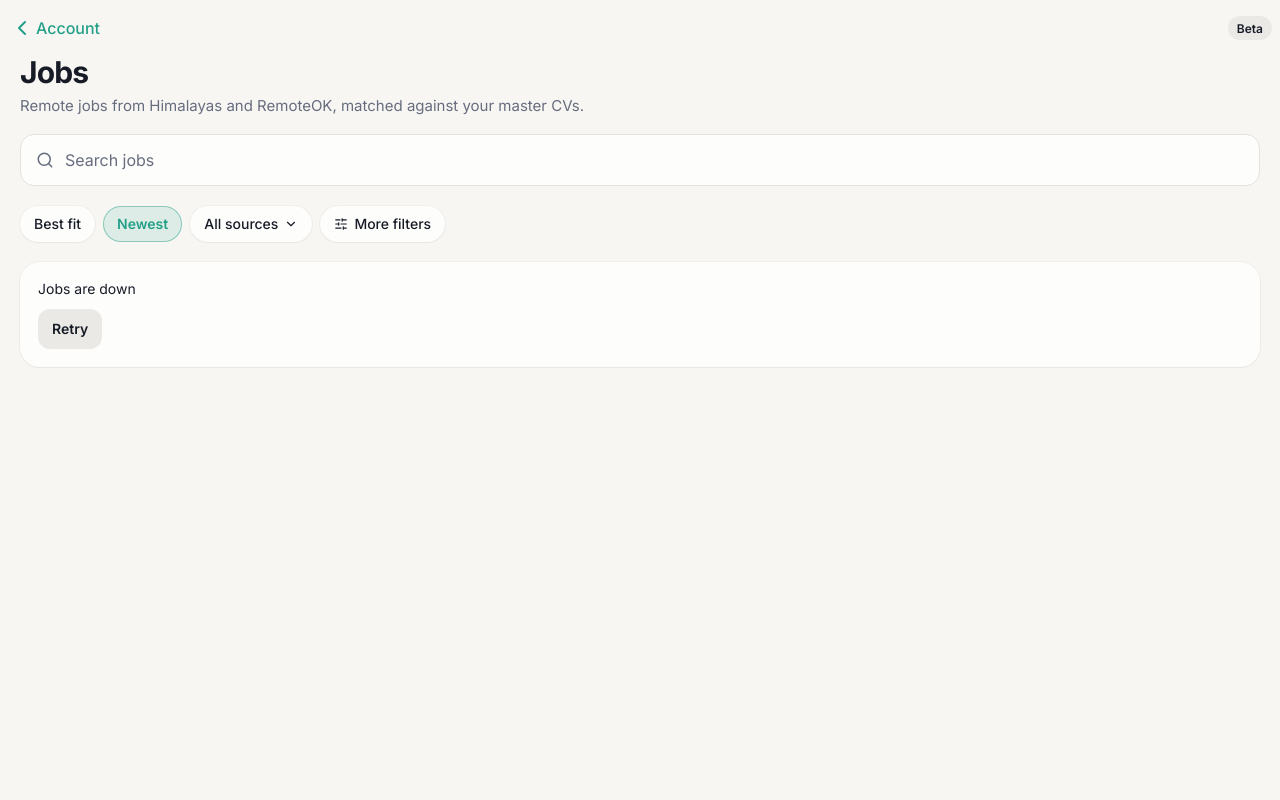
Jobs below md › loads with the board's skeleton, then fails with a Retry that refetches
Later steps or results of the test are not shown.
Expected: the text "Jobs are down" is shown, [38,280,136,296]
Click the button "Retry" at (70, 328), box [38,306,102,350]
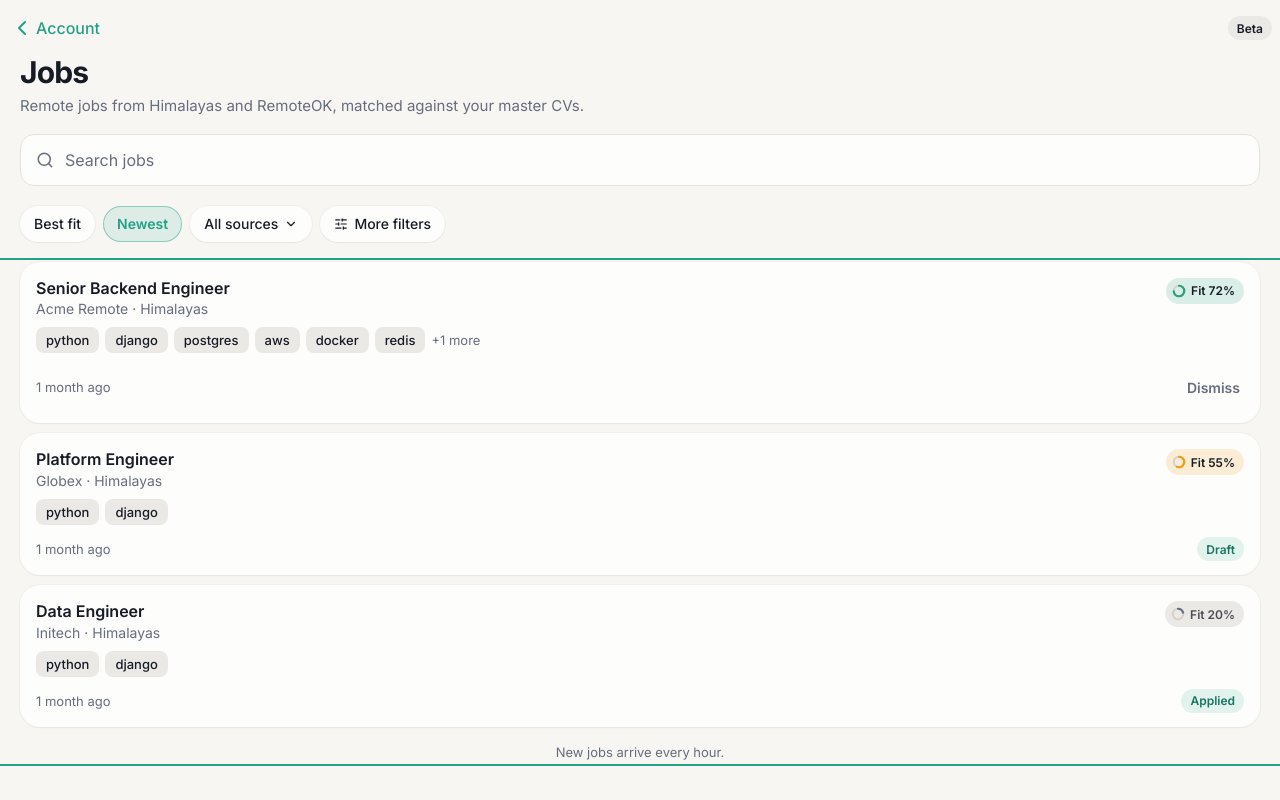
Expected: the element "Senior Backend Engineer" is shown, [20,262,1260,423]
